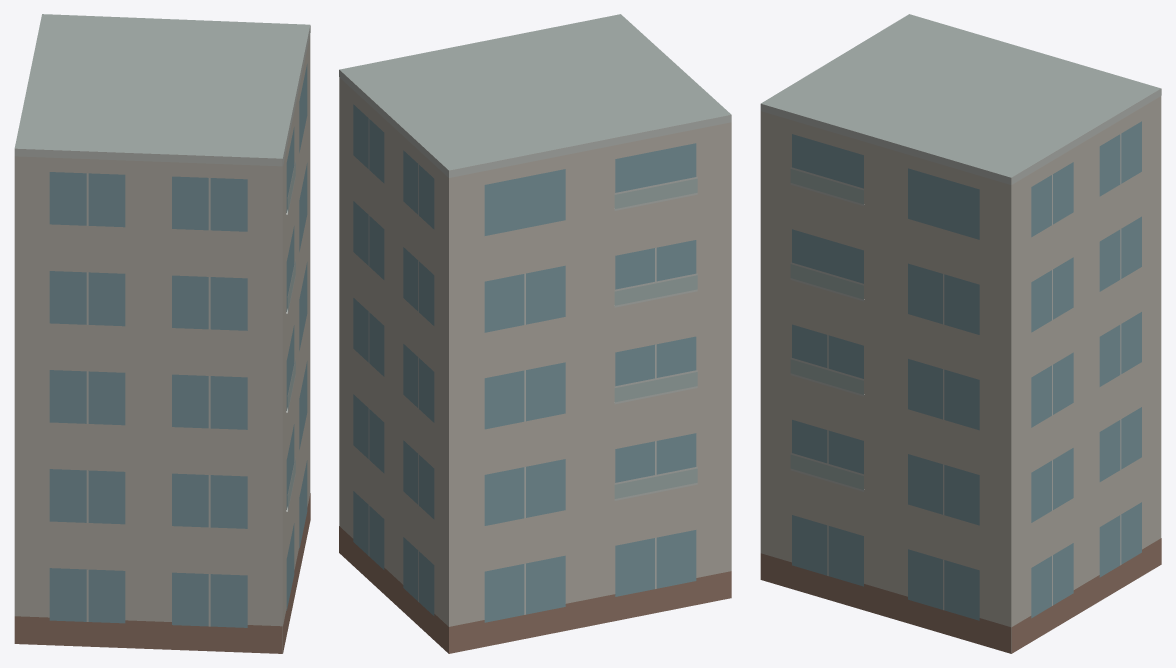
File: survey-upis-32955891.glb
The picture shows the model from 3 angles, left to right: view 1: azimuth 30°, elevation 25°; view 2: azimuth 150°, elevation 25°; view 3: azimuth 270°, elevation 25°; orthographic projection. The views are drawn at different scales.
Visible parts, largest first — view 1: survey-upis-32955891.tmp; view 2: survey-upis-32955891.tmp; view 3: survey-upis-32955891.tmp.
Boxes of the visible parts, left/top/right/bottom form: survey-upis-32955891.tmp: left=14, top=14, right=310, bottom=653; survey-upis-32955891.tmp: left=339, top=14, right=731, bottom=653; survey-upis-32955891.tmp: left=760, top=14, right=1161, bottom=653.
Size of the model in its own units: 11.63 by 15.75 by 12.02.
